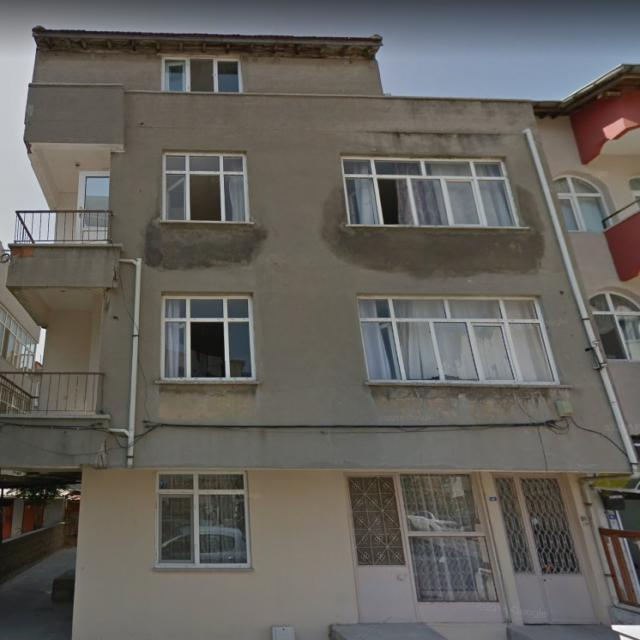Building: (0, 29, 637, 640)
